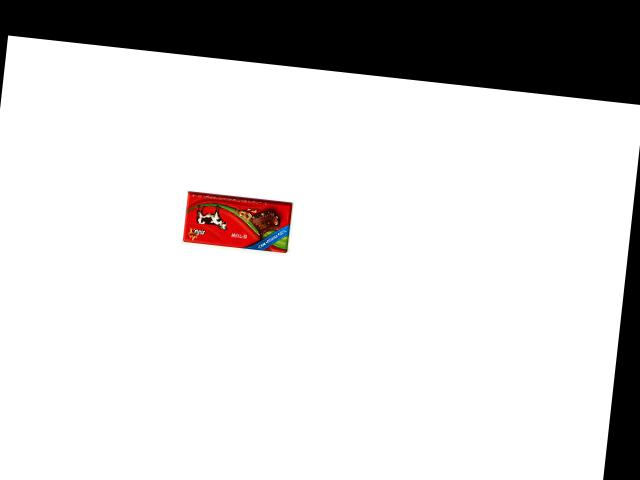chocolate: (178, 192, 291, 253)
